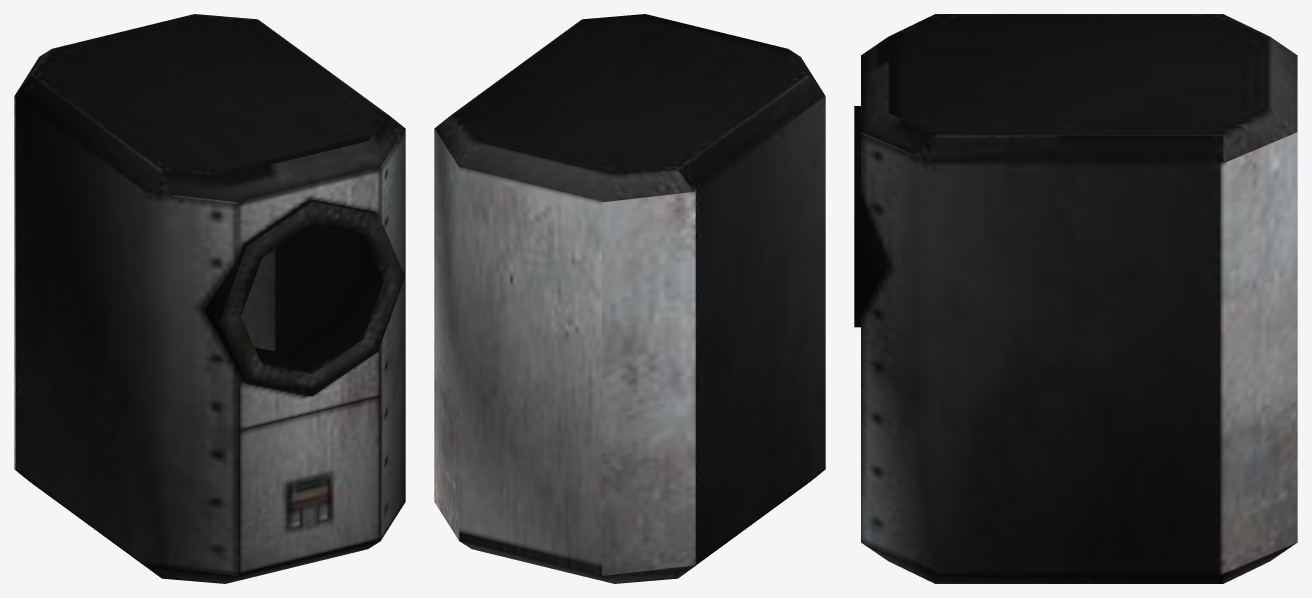
Rendered from MRAa.fbx.
3 views of the same model, side by side, from view 1: azimuth 30°, elevation 25°; view 2: azimuth 150°, elevation 25°; view 3: azimuth 270°, elevation 25° (orthographic). The views are drawn at different scales.
Visible parts, largest first — view 1: Ship_Hull; view 2: Ship_Hull; view 3: Ship_Hull.
Part boxes in pixels (x1,y1,x2,y2): Ship_Hull: (14, 14, 405, 583); Ship_Hull: (434, 14, 825, 583); Ship_Hull: (854, 14, 1297, 583).
Size of the model in its own units: 100 by 150 by 134.
